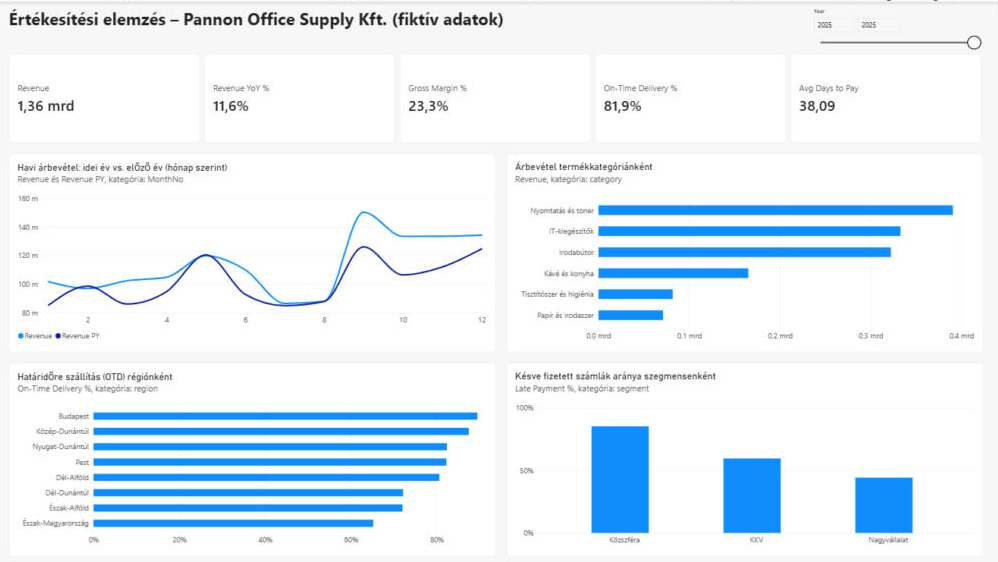

This screenshot's page, from the dashboard's own definition file:
{"tool":"powerbi","page":{"name":"Áttekintés","canvas":[1920,1080],"ordinal":0},"visuals":[{"type":"cardVisual","fields":{"Data":["order_items.Revenue","order_items.Revenue YoY %","order_items.Gross Margin %","order_items.On-Time Delivery %","order_items.Avg Days to Pay"]},"box":[30,100,1860,170],"z":0},{"type":"lineChart","title":"Havi árbevétel: idei év vs. előző év (hónap szerint)","fields":{"Category":["Date.MonthNo"],"Y":["order_items.Revenue","order_items.Revenue PY"]},"box":[30,290,930,380],"z":1},{"type":"clusteredBarChart","title":"Árbevétel termékkategóriánként","fields":{"Category":["products.category"],"Y":["order_items.Revenue"]},"box":[980,290,910,380],"z":2},{"type":"clusteredBarChart","title":"Határidőre szállítás (OTD) régiónként","fields":{"Category":["customers.region"],"Y":["order_items.On-Time Delivery %"]},"box":[30,690,930,370],"z":3},{"type":"clusteredColumnChart","title":"Késve fizetett számlák aránya szegmensenként","fields":{"Category":["customers.segment"],"Y":["order_items.Late Payment %"]},"box":[980,690,910,370],"z":4},{"type":"slicer","fields":{"Values":["Date.Year"]},"box":[1560,10,330,85],"z":5},{"type":"textbox","box":[30,10,1400,80],"z":6}]}

Visuals, with their boxes in screenshot pixels (x1, y1, x2, y2), scaled from the page's 1920x1080 canvas onto the 998x562 screenshot:
cardVisual - order_items.Revenue x order_items.Revenue YoY %: x1=16, y1=52, x2=982, y2=140
"Havi árbevétel: idei év vs. előző év (hónap szerint)" lineChart: x1=16, y1=151, x2=499, y2=349
"Árbevétel termékkategóriánként" clusteredBarChart: x1=509, y1=151, x2=982, y2=349
"Határidőre szállítás (OTD) régiónként" clusteredBarChart: x1=16, y1=359, x2=499, y2=552
"Késve fizetett számlák aránya szegmensenként" clusteredColumnChart: x1=509, y1=359, x2=982, y2=552
slicer - Date.Year: x1=811, y1=5, x2=982, y2=49
textbox: x1=16, y1=5, x2=743, y2=47
